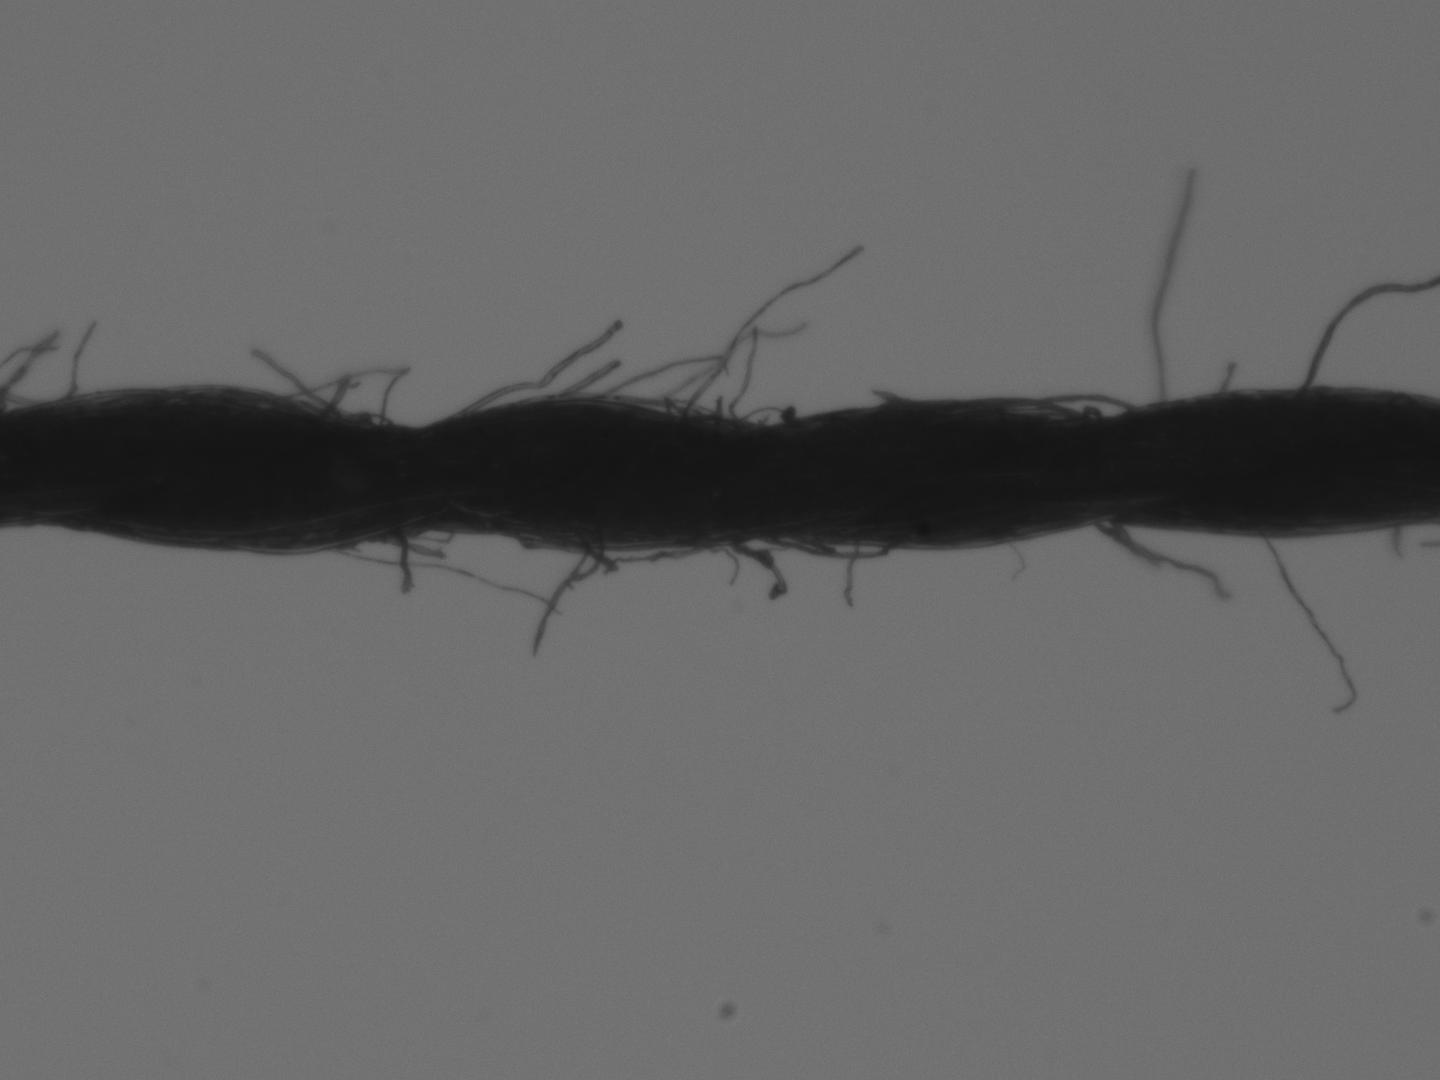loop_fiber: (281, 363, 413, 423), (560, 537, 713, 576), (749, 528, 901, 562), (999, 389, 1145, 423)
protruding_fiber: (1147, 161, 1198, 407), (56, 319, 96, 399)
